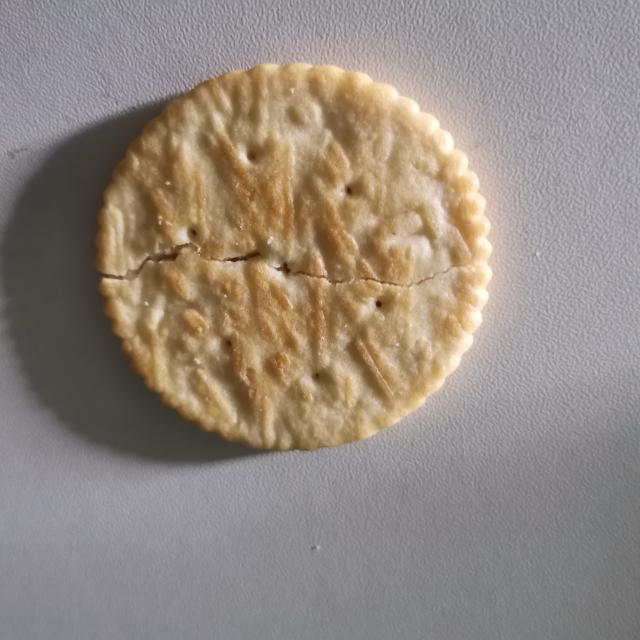Fracture: (91, 242, 490, 301)
